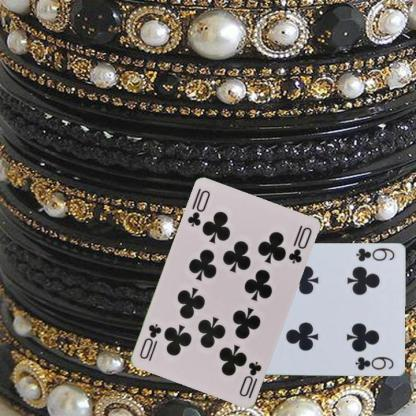10c: (185, 186, 211, 229), (237, 358, 263, 399)
6c: (353, 245, 395, 263)
